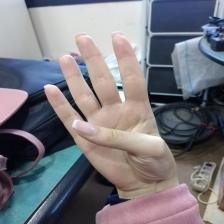four: (45, 29, 178, 190)
